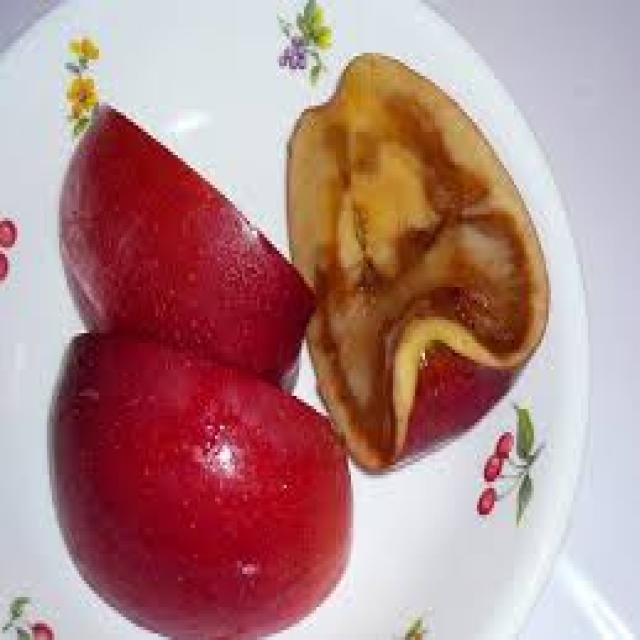food_waste: (52, 53, 544, 637)
